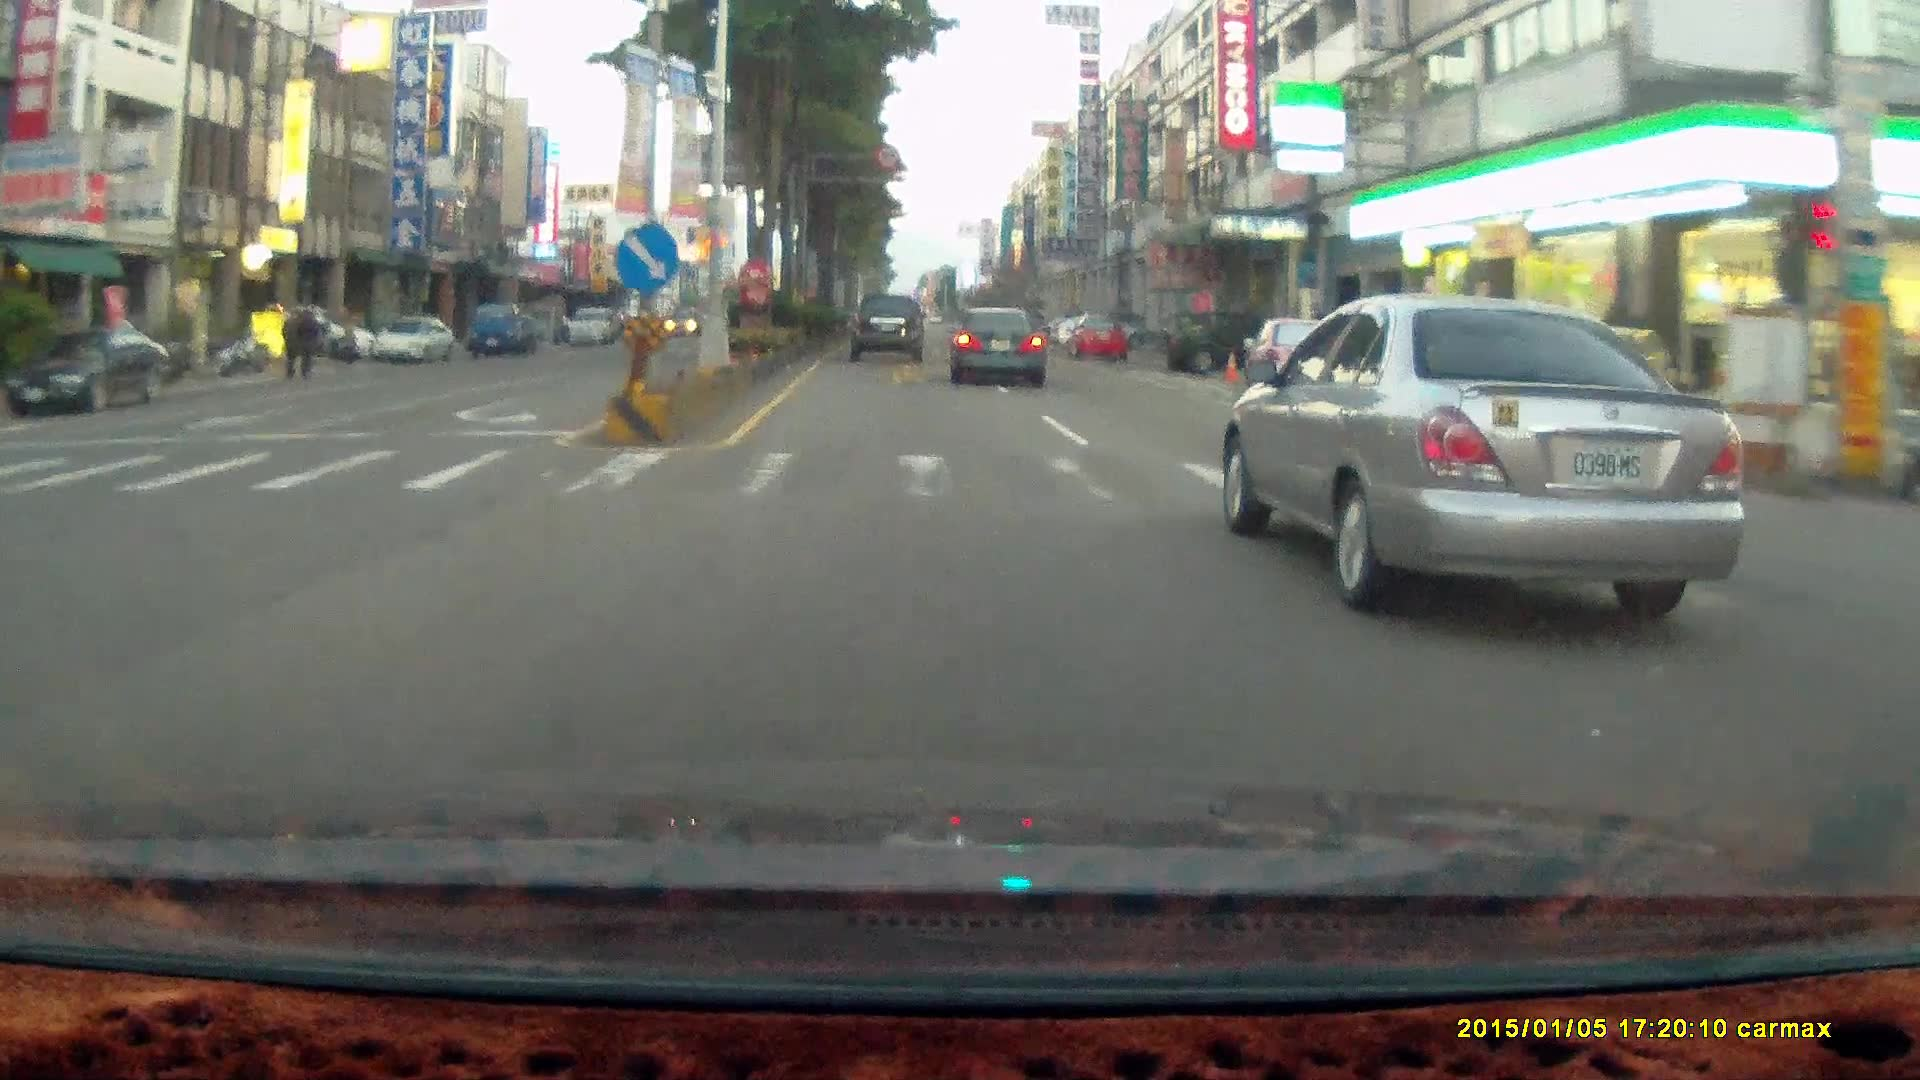pedestrian: (291, 305, 320, 381), (293, 296, 320, 368), (278, 307, 303, 383)
vehicle: (1227, 286, 1746, 625), (1541, 321, 1721, 478), (1, 328, 169, 416), (27, 318, 167, 405), (1252, 312, 1355, 397), (952, 302, 1050, 385), (952, 302, 1045, 385), (1157, 308, 1267, 374), (1158, 305, 1264, 372), (1242, 314, 1334, 384), (850, 293, 929, 366), (848, 291, 925, 361), (471, 295, 554, 351), (374, 313, 455, 365), (465, 302, 537, 358), (370, 314, 453, 360), (1068, 310, 1132, 362), (1067, 310, 1127, 357), (567, 304, 615, 343)
